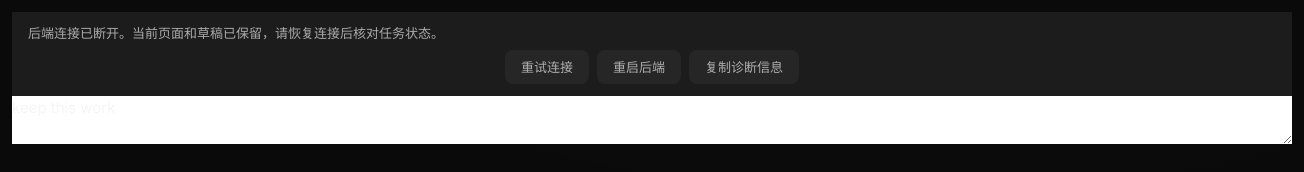
Test case: restores the backend without replacing the current page or its draft
The width and height of the screenshot is (1304, 172).
Expected: the message shows "当前页面和草稿已保留", x1=28 y1=25 x2=444 y2=41
Step 1. Click the button "重启后端" → (639, 67), box x1=597 y1=50 x2=681 y2=84
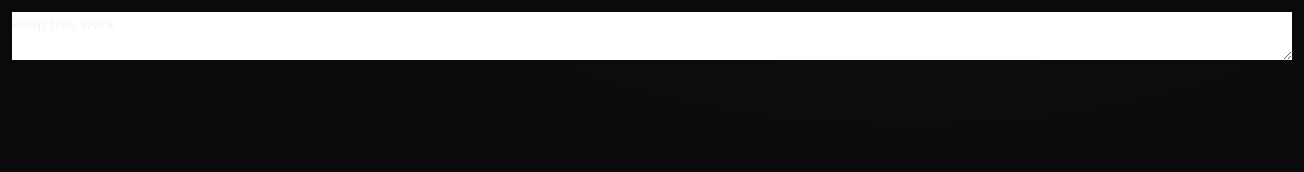
Expected: the text box named "active draft" holds "keep this work", x1=12 y1=12 x2=1292 y2=60
Now the message "后端连接已断开。当前页面和草稿已保留，请恢复连接后核对任务状态。 重试连接 重启后端 复制诊断信息" is gone
